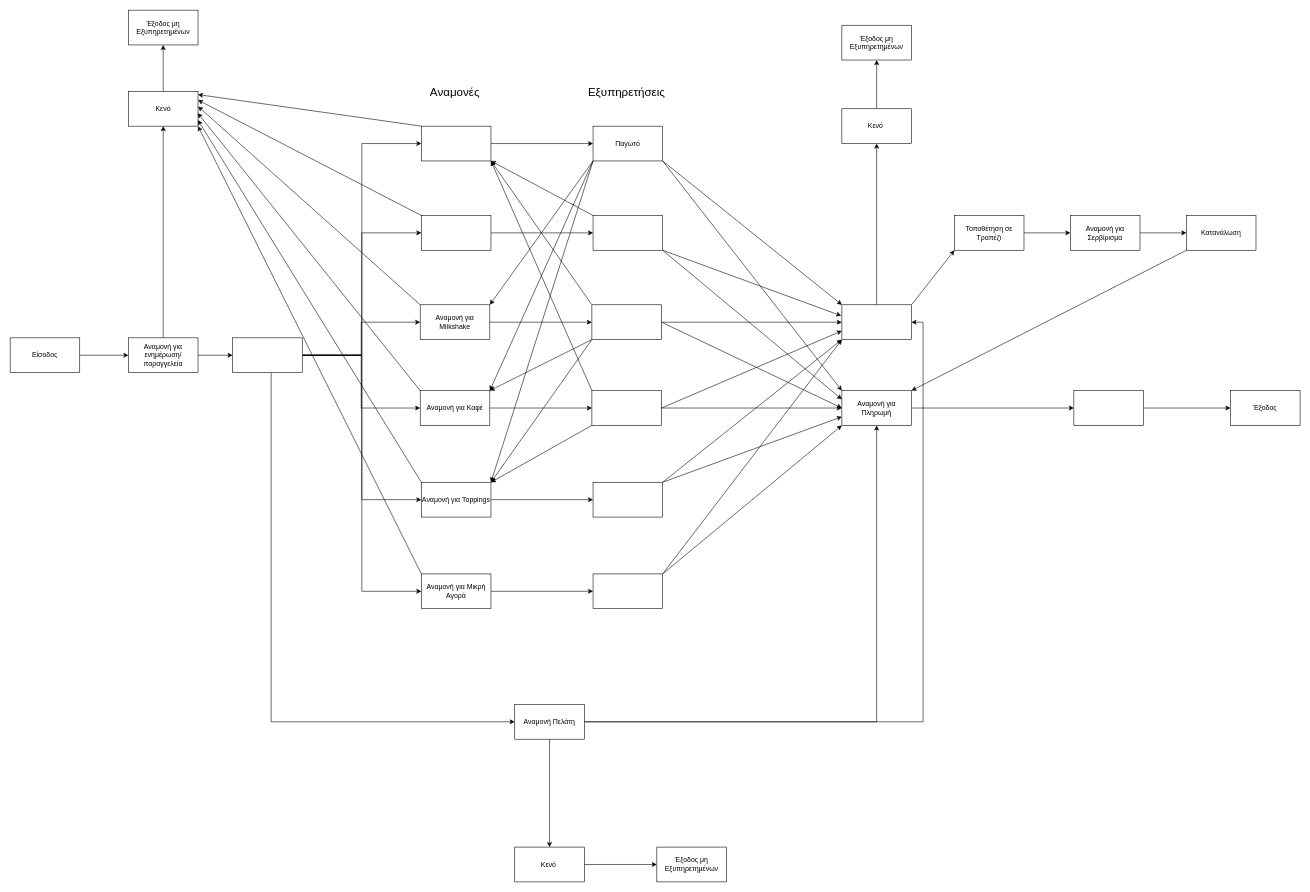
The diagram is 1310 pixels wide and 892 high, and some of its shapes have lost their labels. The centre of each missing label's shape, as x and y in pixels:
Milkshake: (x=626, y=322)
Toppings: (x=627, y=499)
Αναμονή για Βάφλα: (x=456, y=232)
Αναμονή για Παγωτό: (x=456, y=143)
Αναμονή για Τραπέζι: (x=876, y=322)
Βάφλα: (x=627, y=232)
Ενημέρωση/Παραγγελεία: (x=267, y=355)
Καφές: (x=626, y=407)
Μικρή Αγορά: (x=627, y=591)
Πληρωμή: (x=1108, y=407)
